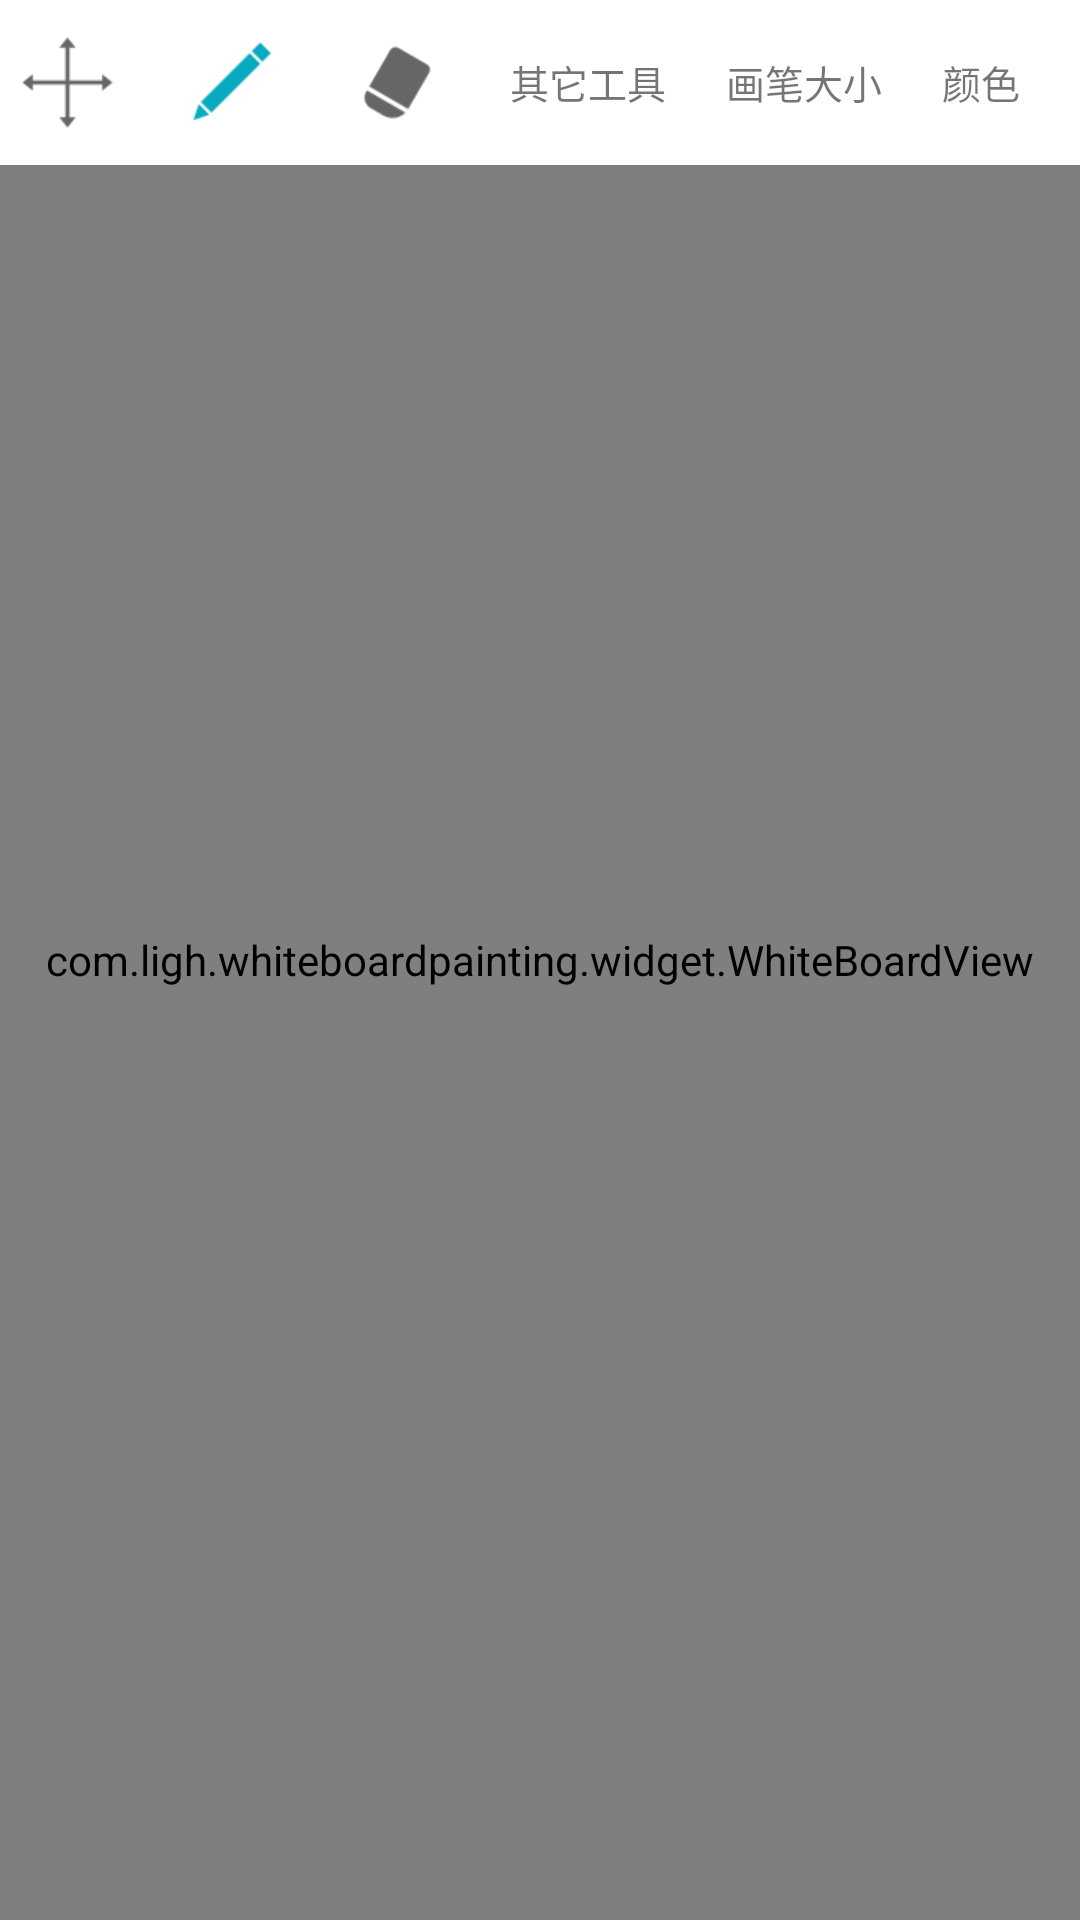

Icon bounding boxes for this 1080 x 1920 phone screenshot, format (x1, y1, x2, y2):
pen hig: (193, 42, 272, 121)
pen move nor: (22, 37, 113, 128)
pen ocon eraser nor: (364, 46, 431, 119)
